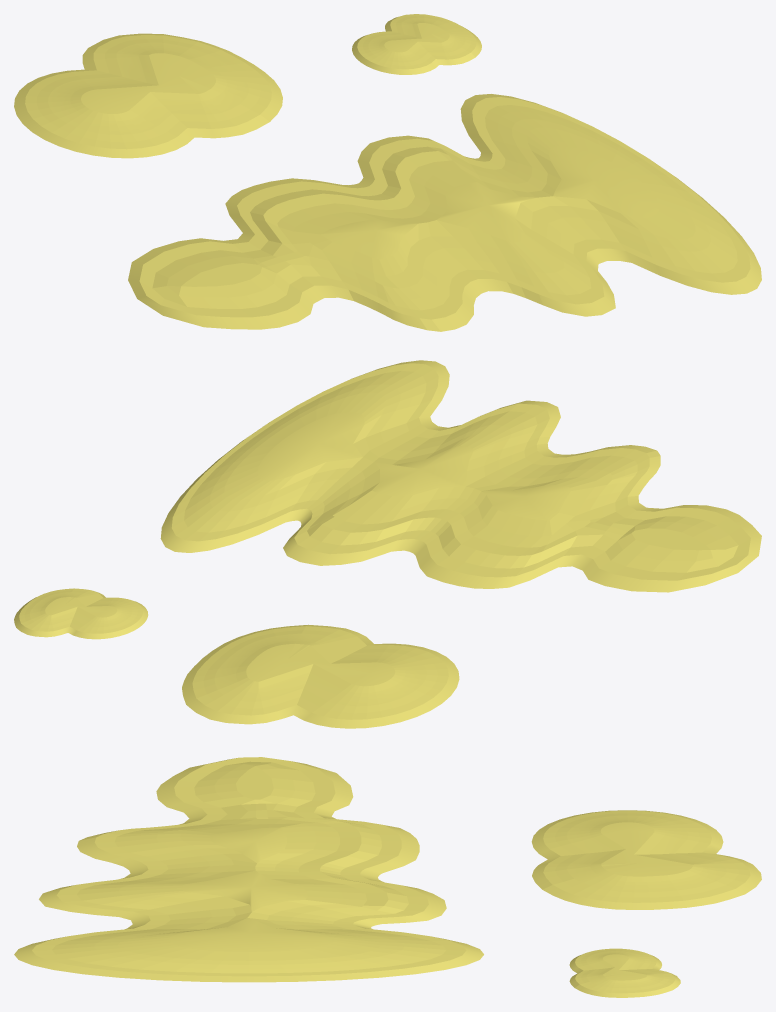
File: Sand_Pits.fbx
3 renders of one model, top to bottom at view 1: azimuth 30°, elevation 25°; view 2: azimuth 150°, elevation 25°; view 3: azimuth 270°, elevation 25°, orthographic. The views are drawn at different scales.
Visible parts, largest first — view 1: Cylinder.010, Cylinder.016, Cylinder.009; view 2: Cylinder.010, Cylinder.016, Cylinder.009; view 3: Cylinder.010, Cylinder.016, Cylinder.009.
Boxes of the visible parts, x1,y1,x2,y2 form: Cylinder.010: (128,94,761,331); Cylinder.016: (14,33,282,158); Cylinder.009: (352,14,481,74); Cylinder.010: (160,360,761,592); Cylinder.016: (182,624,459,728); Cylinder.009: (14,588,148,639); Cylinder.010: (14,757,483,982); Cylinder.016: (531,810,761,909); Cylinder.009: (569,948,680,997).
Size of the model in its own units: 14947 by 831 by 20767.
